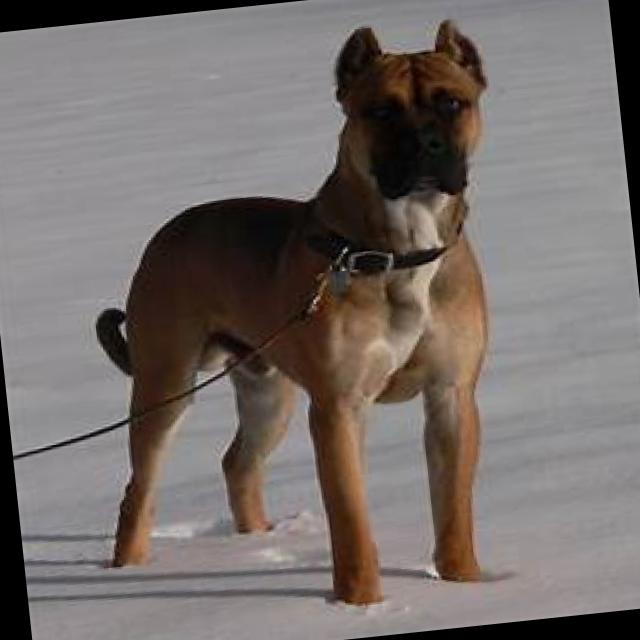animal: (52, 11, 541, 634)
